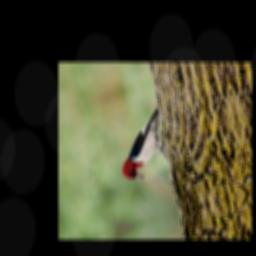Woodpecker: (111, 108, 171, 186)
